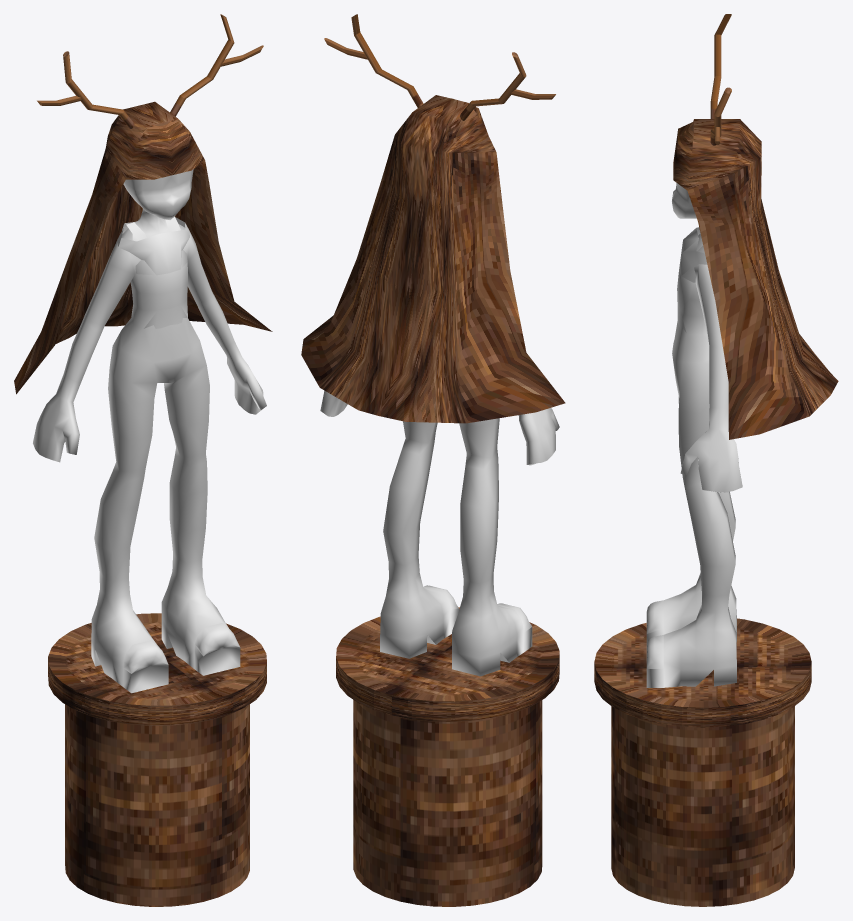
Rendered from espiritoflorestaestatua.fbx.
3 renders of one model, left to right at view 1: azimuth 30°, elevation 25°; view 2: azimuth 150°, elevation 25°; view 3: azimuth 270°, elevation 25°, orthographic. The views are drawn at different scales.
Visible parts, largest first — view 1: KeyframeChef_LowPoly_Base, Cylinder.001, Plane, Cylinder; view 2: Plane, Cylinder.001, KeyframeChef_LowPoly_Base, Cylinder; view 3: Cylinder.001, Plane, KeyframeChef_LowPoly_Base, Cylinder.
Part boxes in pixels (bbox=[...]): KeyframeChef_LowPoly_Base: bbox=[33, 169, 266, 693]; Cylinder.001: bbox=[48, 613, 266, 906]; Plane: bbox=[14, 101, 272, 394]; Cylinder: bbox=[37, 14, 263, 128]; Plane: bbox=[301, 95, 565, 423]; Cylinder.001: bbox=[336, 607, 559, 906]; KeyframeChef_LowPoly_Base: bbox=[320, 390, 559, 676]; Cylinder: bbox=[324, 14, 555, 120]; Cylinder.001: bbox=[594, 618, 811, 906]; Plane: bbox=[673, 119, 838, 439]; KeyframeChef_LowPoly_Base: bbox=[646, 183, 742, 687]; Cylinder: bbox=[710, 14, 731, 145].
Size of the model in its own units: 83.15 by 255 by 69.17.
4 materials, 3 textured.
